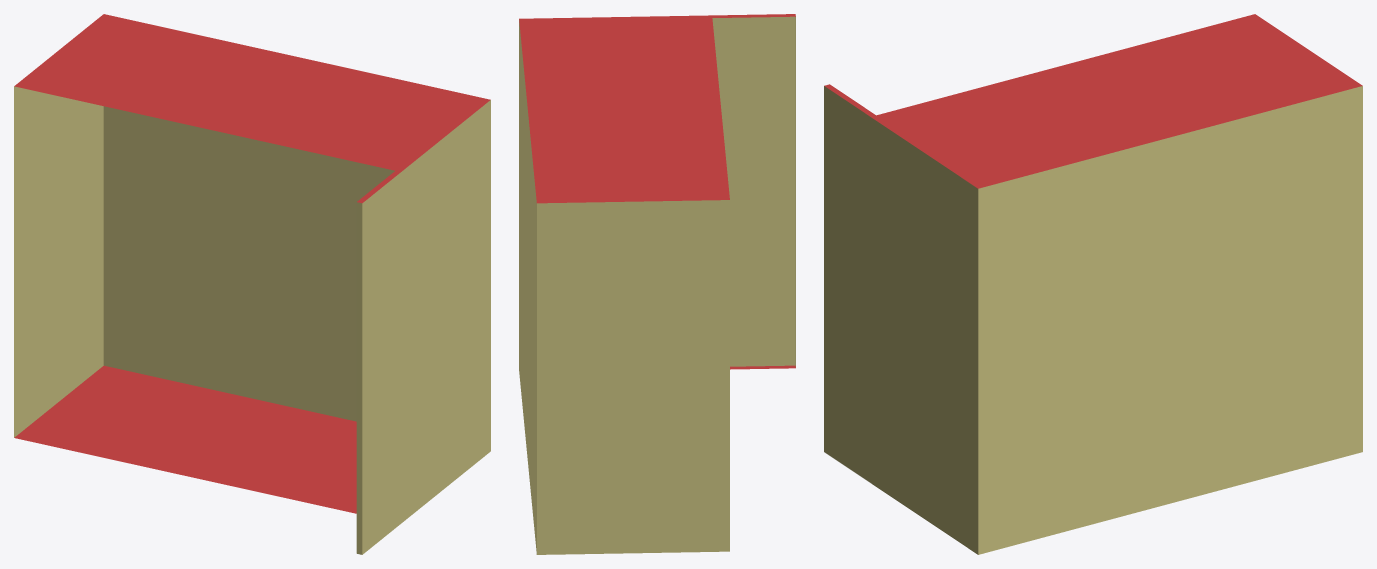
The picture shows the model from 3 angles, left to right: view 1: azimuth 30°, elevation 25°; view 2: azimuth 150°, elevation 25°; view 3: azimuth 270°, elevation 25°; orthographic projection. The views are drawn at different scales.
Bounding box in the file's own units: 7.46 × 9.71 × 7.28.
